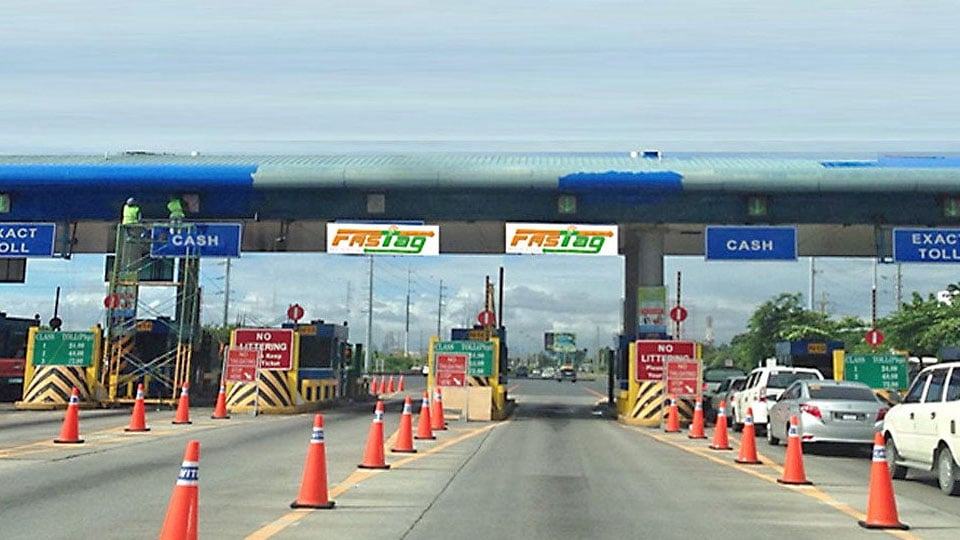toll plaza: (9, 153, 520, 424)
